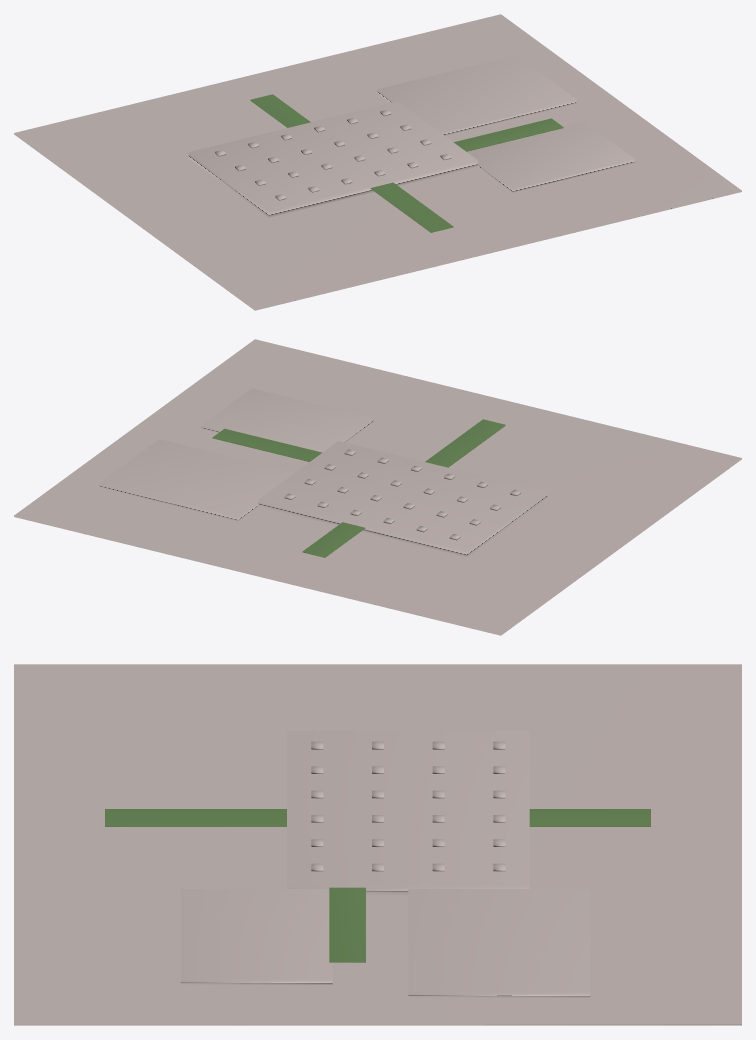
3 views of the same model, one above another, from view 1: azimuth 30°, elevation 25°; view 2: azimuth 150°, elevation 25°; view 3: azimuth 270°, elevation 25° (orthographic). The views are drawn at different scales.
Parts seen in each view (by area): view 1: ground_simplified, ruins_simplified, deck_simplified; view 2: ground_simplified, ruins_simplified, deck_simplified; view 3: ground_simplified, ruins_simplified, deck_simplified.
Boxes of the visible parts, bbox=[...] form: ground_simplified: bbox=[14, 14, 741, 310]; ruins_simplified: bbox=[188, 55, 634, 217]; deck_simplified: bbox=[250, 94, 563, 232]; ground_simplified: bbox=[14, 339, 741, 635]; ruins_simplified: bbox=[99, 388, 547, 557]; deck_simplified: bbox=[212, 419, 505, 557]; ground_simplified: bbox=[14, 664, 741, 1025]; ruins_simplified: bbox=[180, 731, 590, 997]; deck_simplified: bbox=[105, 809, 650, 962].
Bounding box in the file's own units: 56 × 1.1 × 48.
Materials: 3 (3 with a texture image).
